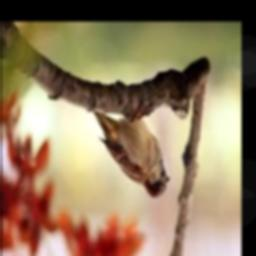Sparrow: (92, 110, 170, 198)
